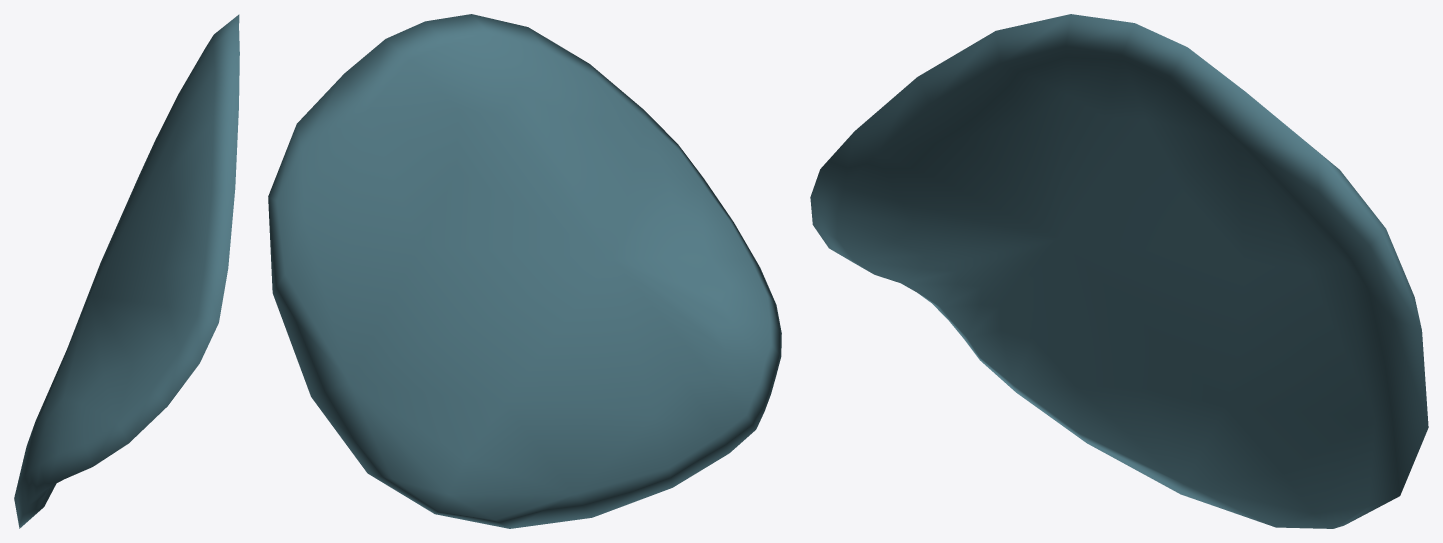
The model's file is Abductor_pollicis_longus-Insertion.r_Generated_Mesh_From_X3D.56.glb.
3 renders of one model, left to right at view 1: azimuth 30°, elevation 25°; view 2: azimuth 150°, elevation 25°; view 3: azimuth 270°, elevation 25°, orthographic. The views are drawn at different scales.
Parts seen in each view (by area): view 1: Abductor_pollicis_longus-Insertion.r_Generated_Mesh_From_X3D; view 2: Abductor_pollicis_longus-Insertion.r_Generated_Mesh_From_X3D; view 3: Abductor_pollicis_longus-Insertion.r_Generated_Mesh_From_X3D.
Part boxes in pixels (<box>): Abductor_pollicis_longus-Insertion.r_Generated_Mesh_From_X3D: <box>14,14,239,528</box>; Abductor_pollicis_longus-Insertion.r_Generated_Mesh_From_X3D: <box>268,14,781,528</box>; Abductor_pollicis_longus-Insertion.r_Generated_Mesh_From_X3D: <box>810,14,1428,528</box>.
Bounding box in the file's own units: 0.00493 × 0.006 × 0.00568.
